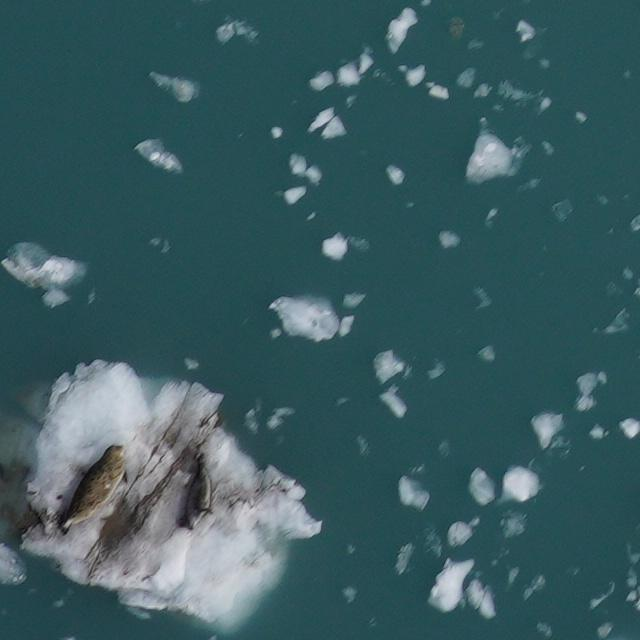seal: (59, 443, 124, 535), (176, 453, 212, 531)
